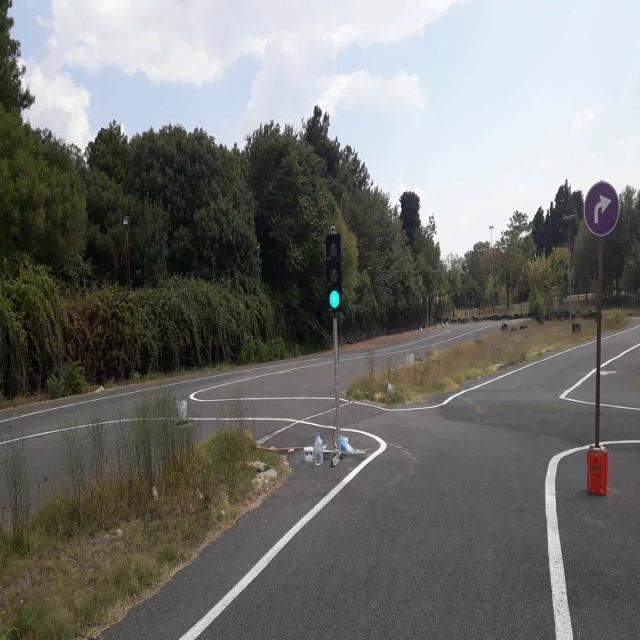sag: (584, 184, 620, 236)
yesil: (326, 235, 341, 312)
